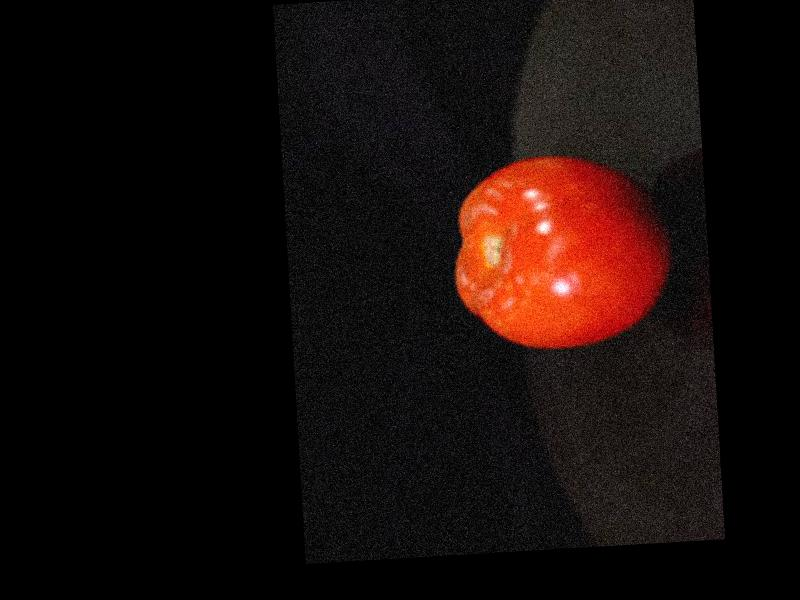Tomato: (445, 148, 676, 357)
